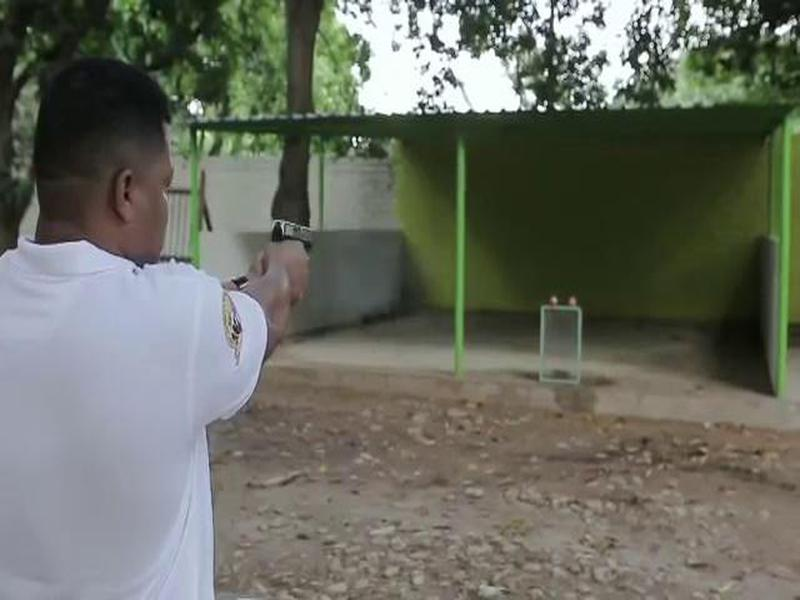Pistola: (264, 212, 322, 285)
